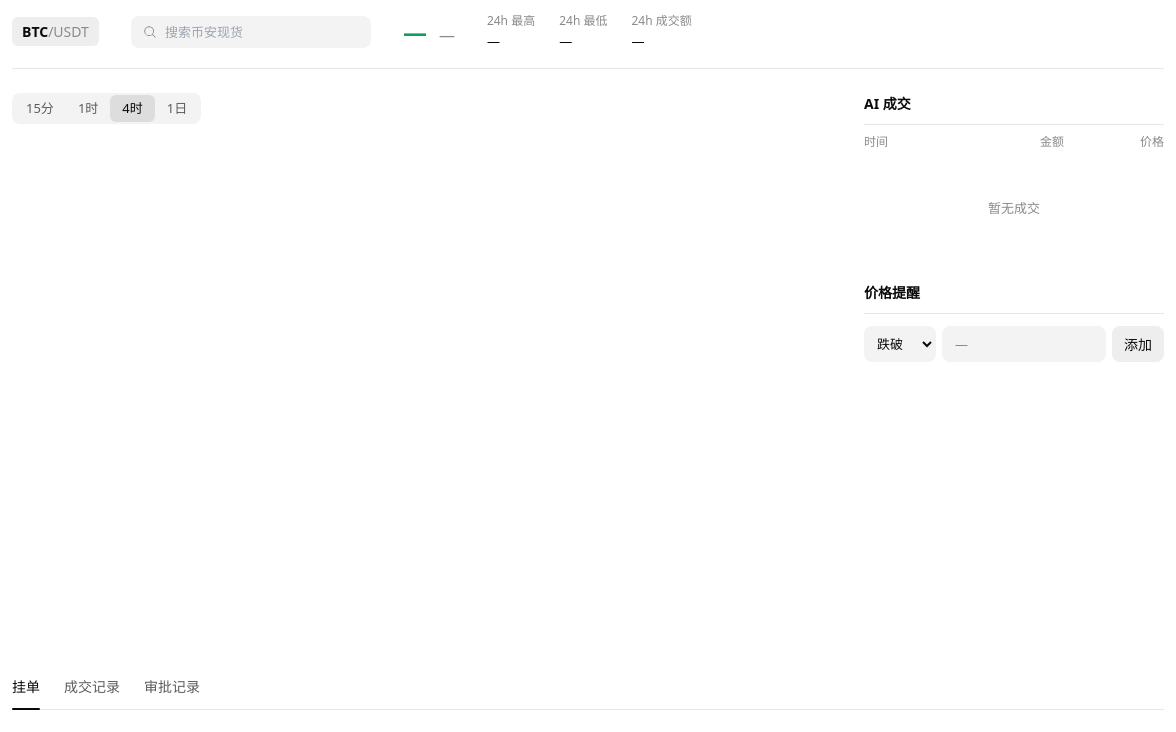
Spot page limit orders › searches every Binance spot pair and opens one outside the AI's round
In the field with placeholder "搜索币安现货": point(262, 32) [165,16,359,48], type "AMD"
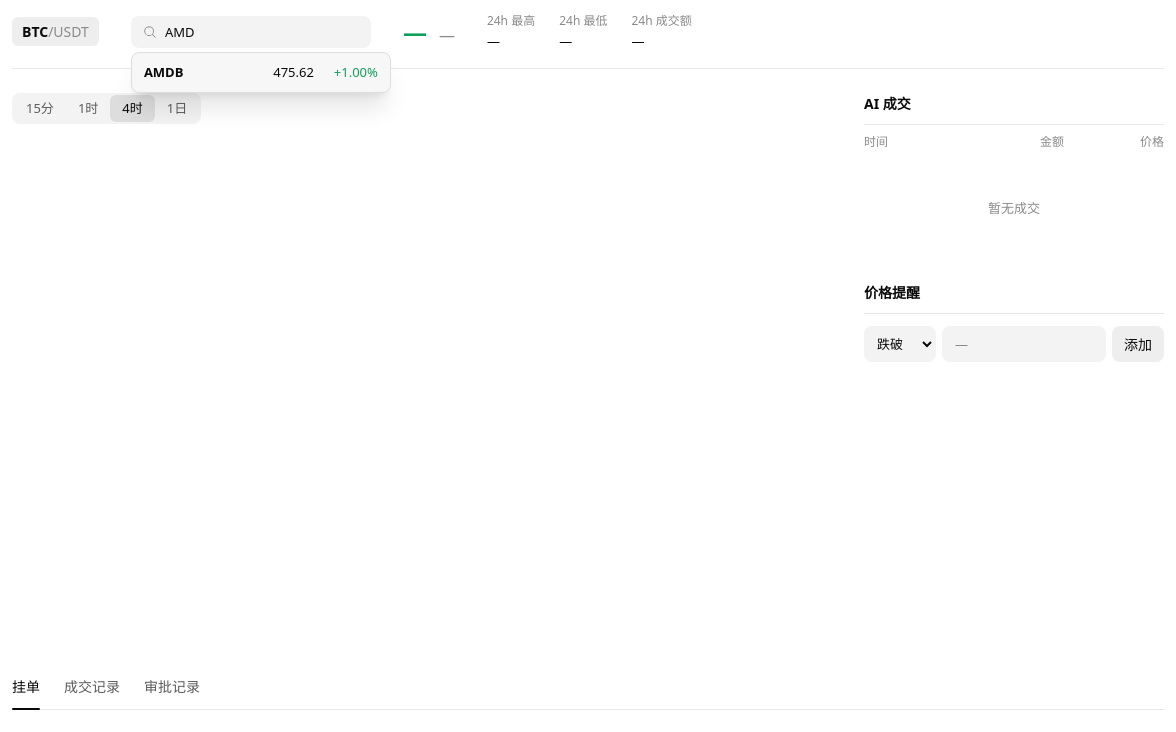
Click the option "AMDB 475.62 +1.00%": point(261, 73) [132,57,390,88]
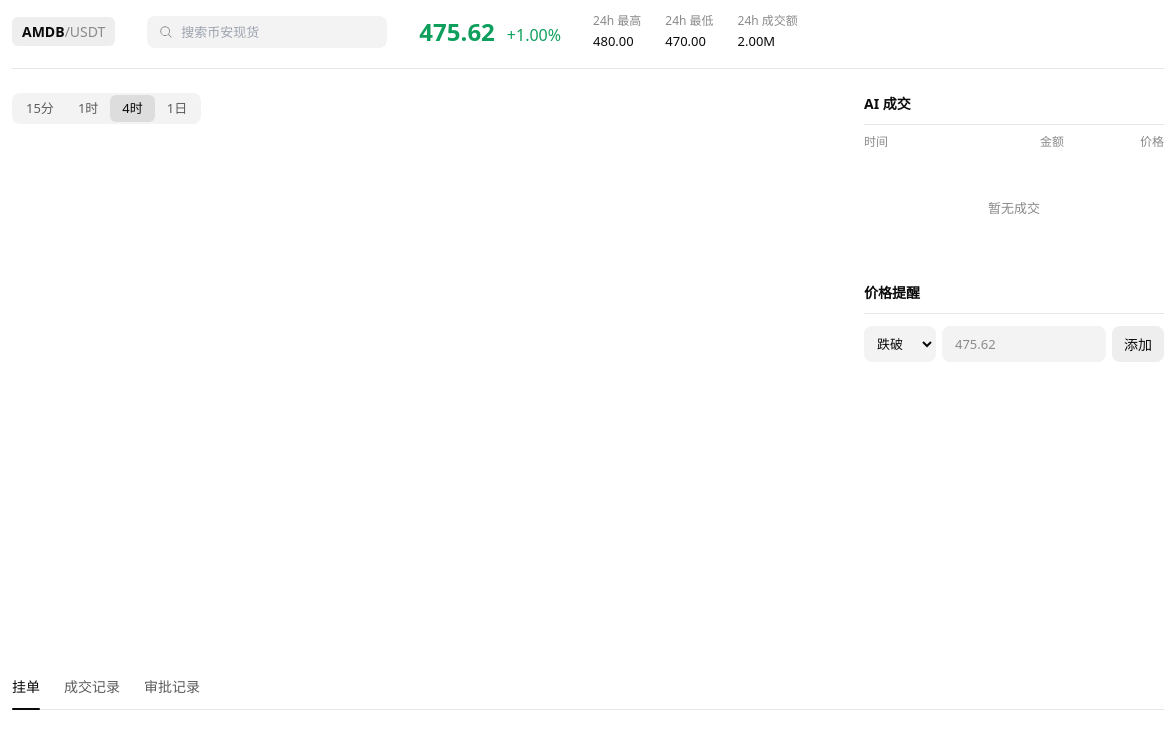
Now the text "475.62" is shown, box [415,15,499,48]
Now the button "AMDB/USDT" is shown, box [12,17,115,46]
